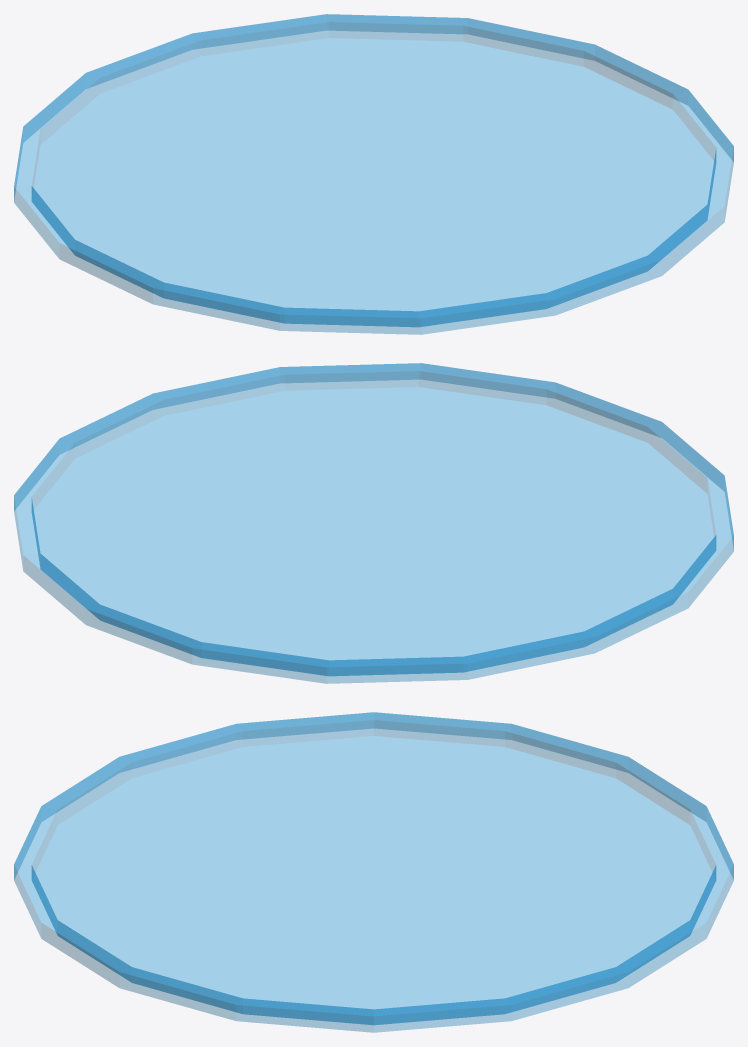
File: TowerRangeIndicator.glb
3 views of the same model, one above another, from view 1: azimuth 30°, elevation 25°; view 2: azimuth 150°, elevation 25°; view 3: azimuth 270°, elevation 25° (orthographic).
Parts seen in each view (by area): view 1: Cylinder; view 2: Cylinder; view 3: Cylinder.
Part boxes in pixels (x1,y1,x2,y2): Cylinder: (14, 14, 733, 334); Cylinder: (14, 363, 733, 683); Cylinder: (14, 712, 733, 1032).
Size of the model in its own units: 2 by 0.05 by 2.
